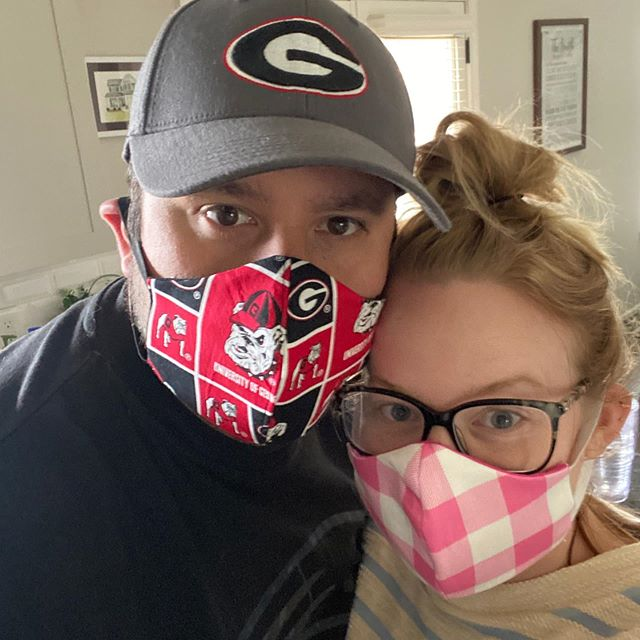homemade: (133, 260, 384, 456), (343, 444, 593, 590)
